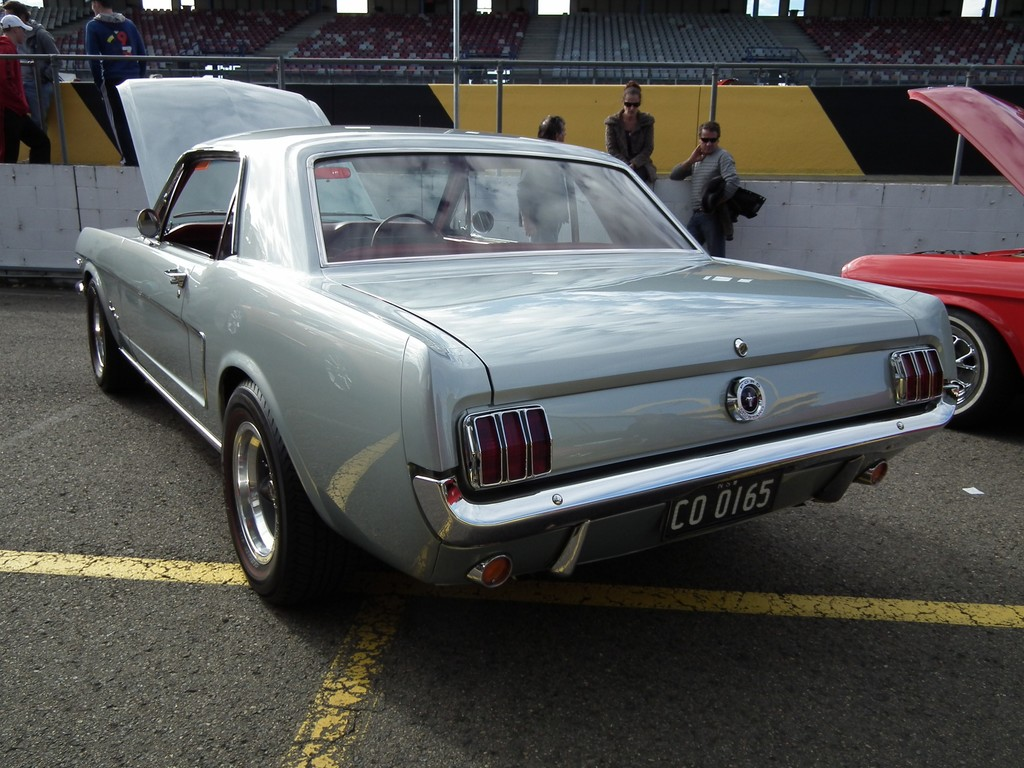Car: (72, 79, 965, 605), (838, 87, 1023, 432)
